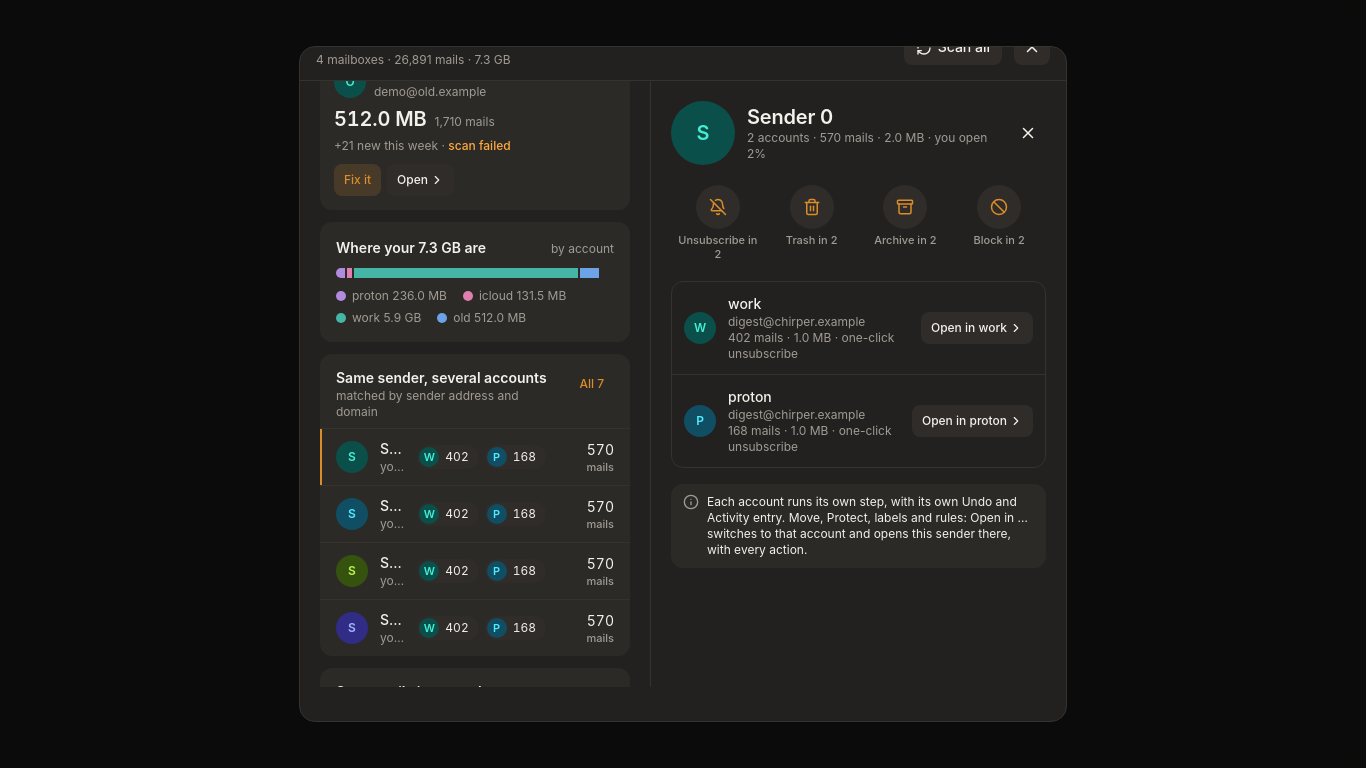
Scenario: All N expands the list in place and Fewer takes it back
The image size is (1366, 768).
(page scrolled)
Expected: the heading "Same sender, several accounts" is shown, [336,368,557,388]
Expected: the number of list items with test id "same-row" is 4, [320,429,630,485]; [320,485,630,542]; [320,542,630,599]; [320,599,630,656]
Click the button "All 7": (592, 384) [569,368,614,400]
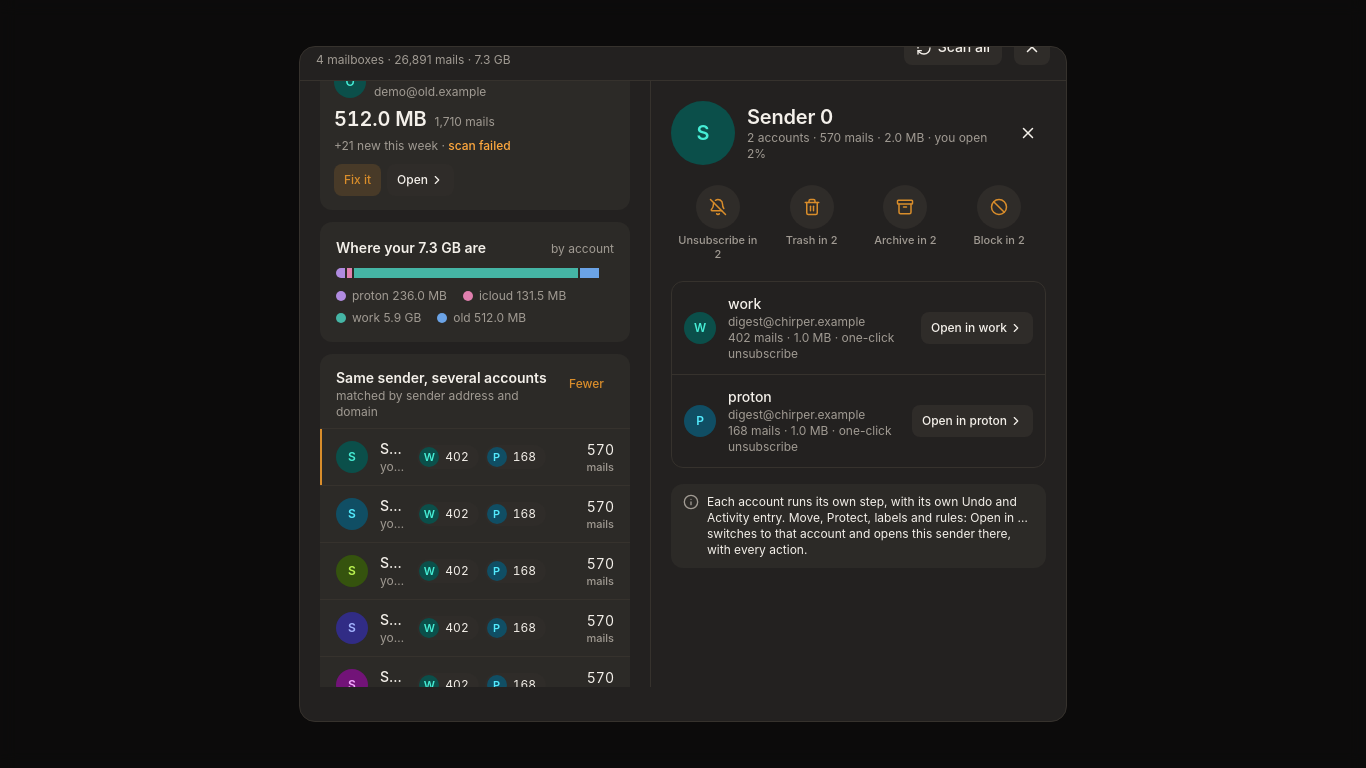
Click the button "Fewer": (587, 384) [559,368,614,400]
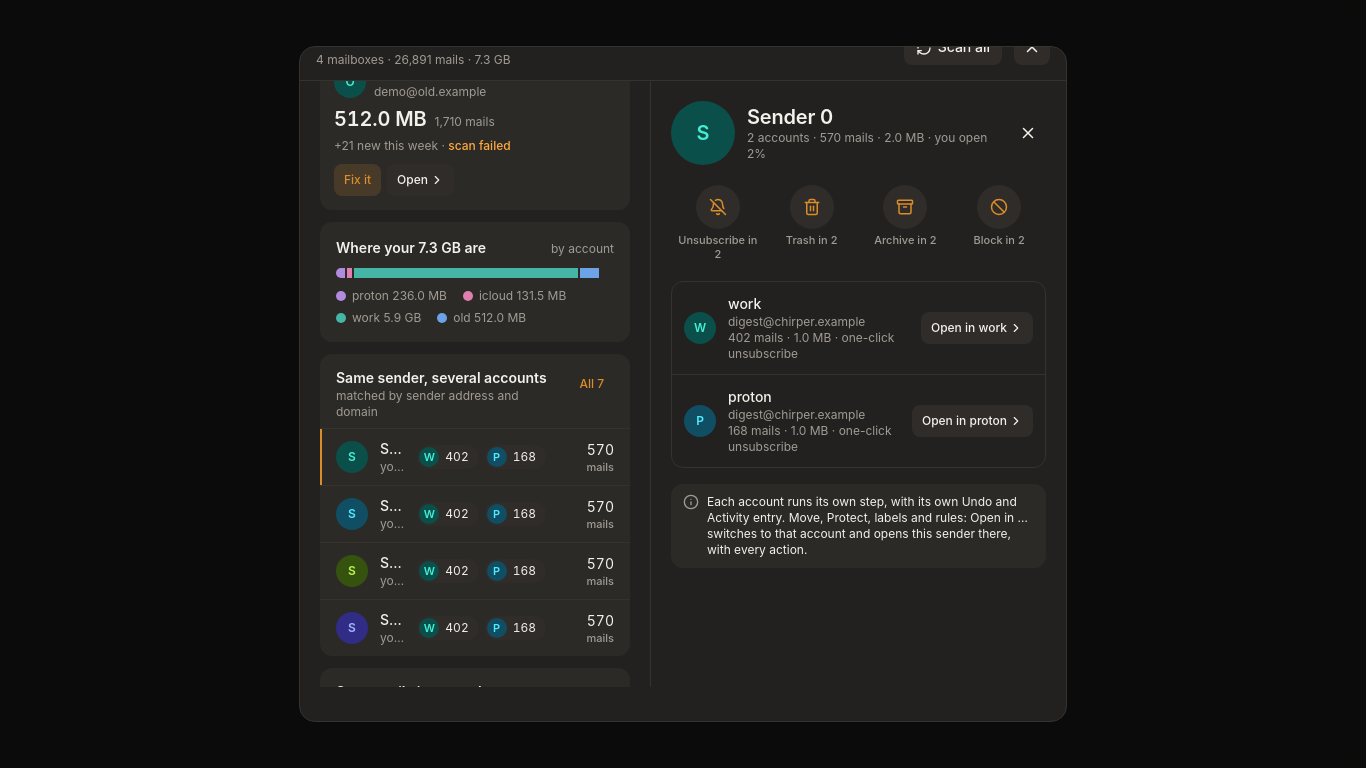
Expected: the number of list items with test id "same-row" is 4, [320,429,630,485]; [320,485,630,542]; [320,542,630,599]; [320,599,630,656]
